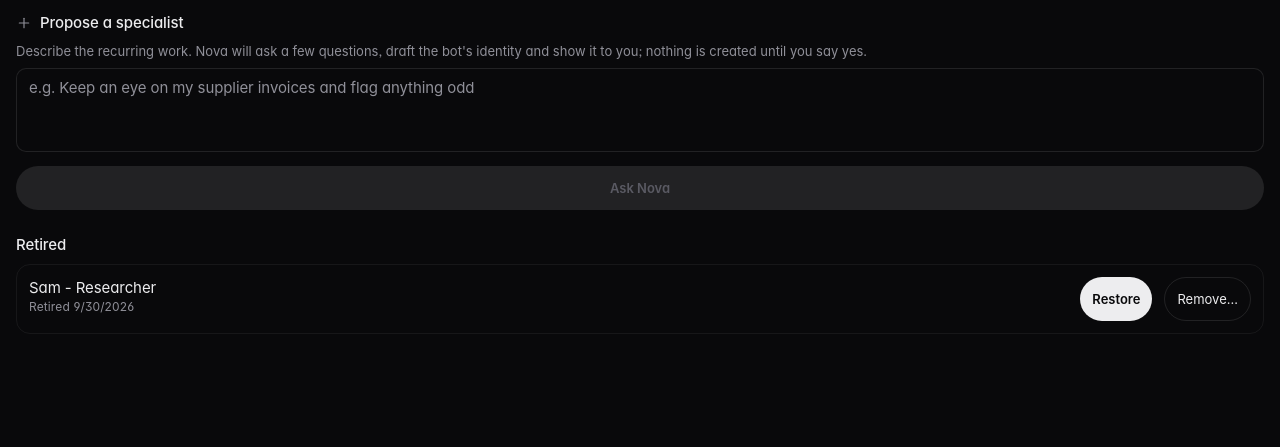
Test case: Team: retired bots restore, and removing for good needs a second confirmation
Expected: the text "Sam - Researcher" is shown, [29, 278, 156, 297]
Step 1. Click the button "Remove…" → x=1208, y=299, box [1164, 277, 1251, 321]
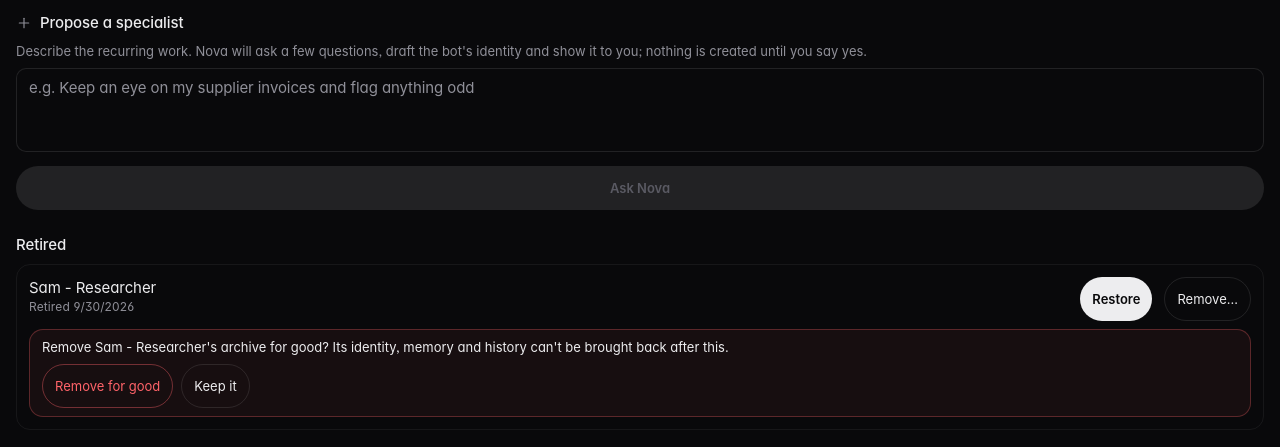
Now the text "can't be brought back" is shown, box [206, 339, 729, 355]
Step 2. Click the button "Keep it" → x=216, y=386, box [181, 364, 250, 408]
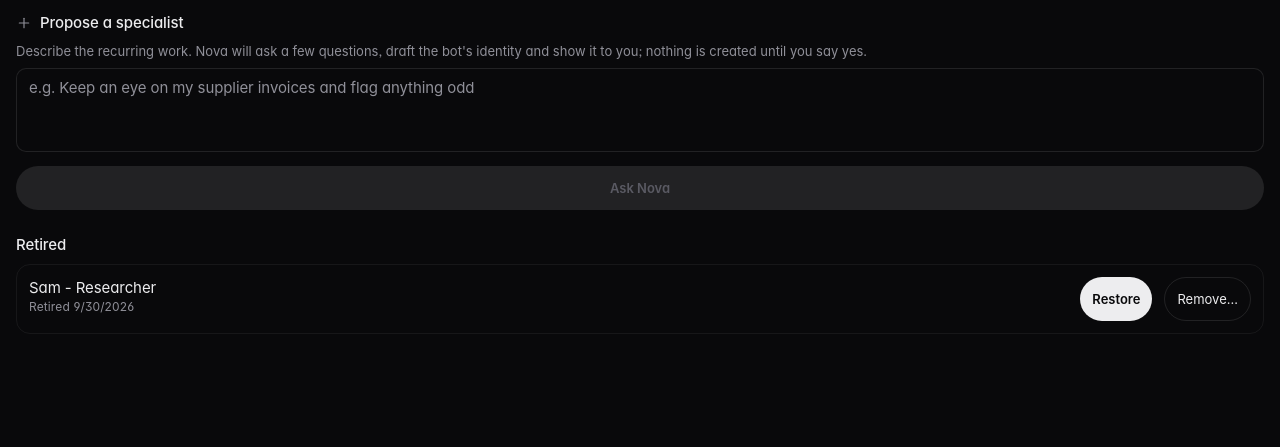
Step 3. Click the button "Restore" → x=1116, y=299, box [1080, 277, 1152, 321]
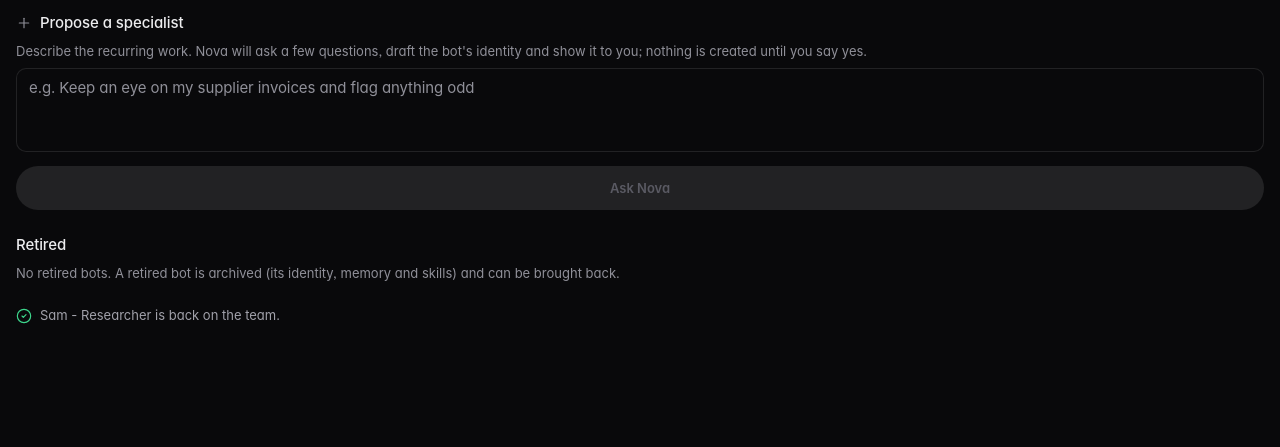
Now the text "Sam - Researcher is back on the team." is shown, box [40, 306, 280, 324]
Now the text "No retired bots" is shown, box [16, 265, 620, 281]
